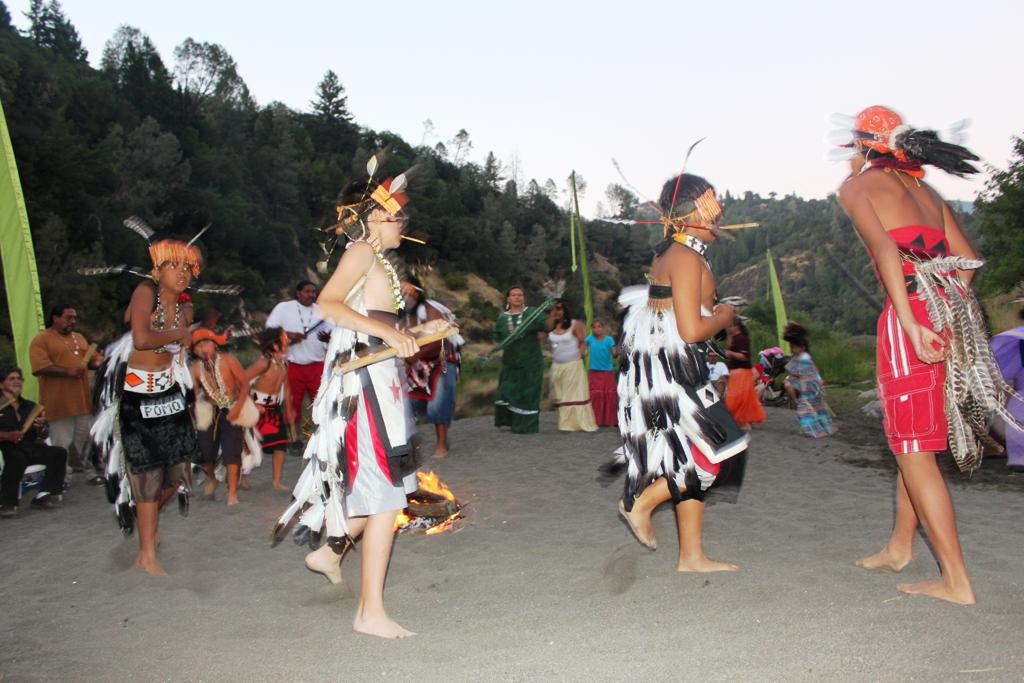face: (372, 203, 404, 249), (160, 259, 192, 293), (57, 309, 78, 336), (195, 338, 216, 361), (4, 372, 22, 394), (301, 284, 318, 306), (551, 302, 565, 322), (510, 289, 526, 306), (278, 335, 289, 353), (592, 322, 604, 338), (708, 351, 720, 365), (791, 342, 802, 357), (728, 320, 738, 335)
